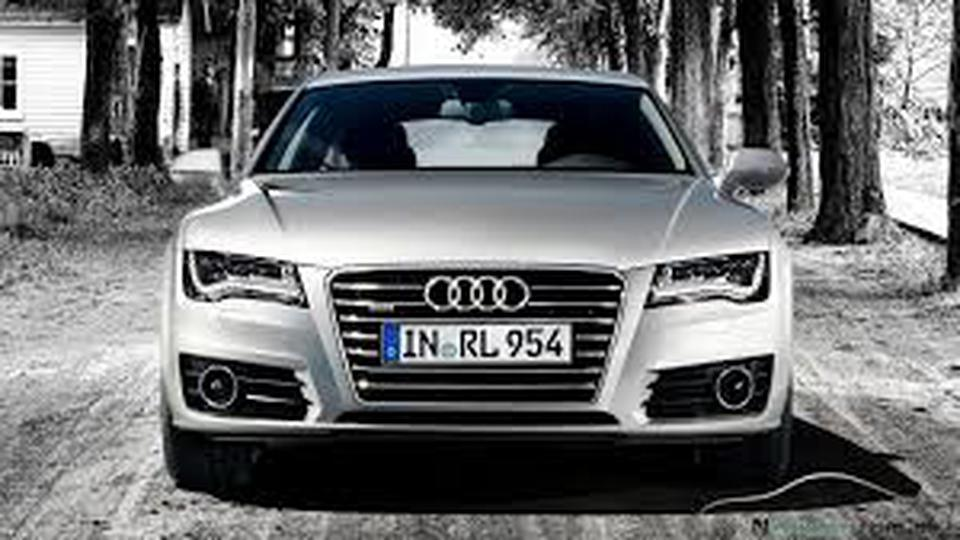NumberPlate: (384, 322, 576, 371)
